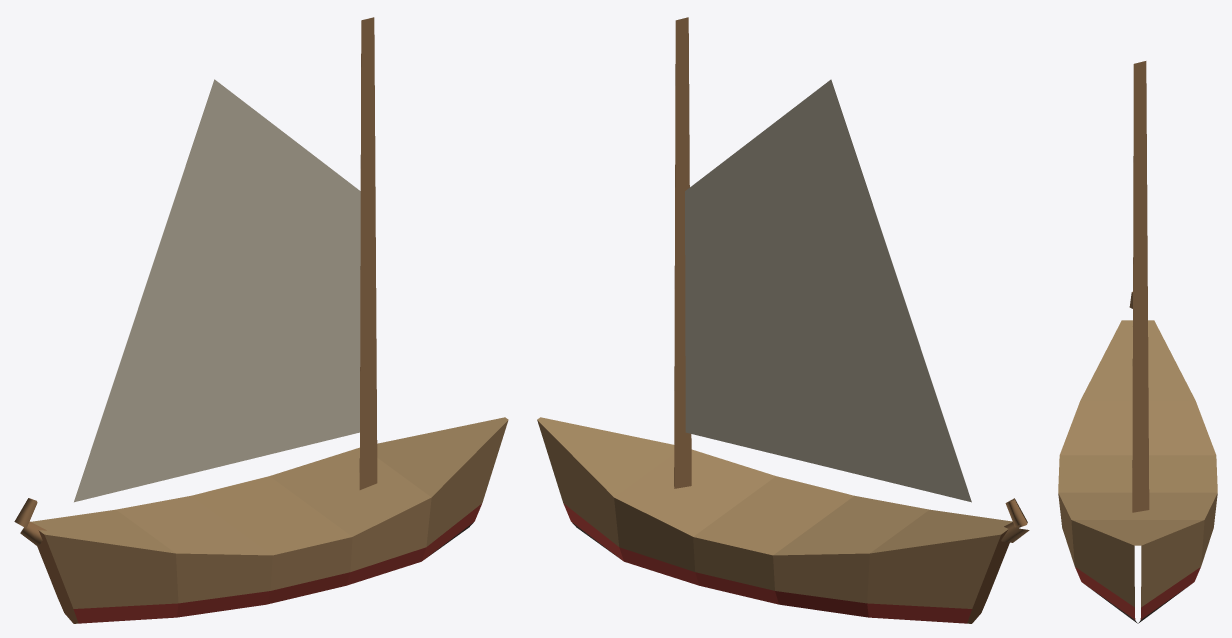
Rendered from hull_other_sprit_skiff_lod.glb.
3 renders of one model, left to right at view 1: azimuth 30°, elevation 25°; view 2: azimuth 150°, elevation 25°; view 3: azimuth 270°, elevation 25°, orthographic. The views are drawn at different scales.
Parts seen in each view (by area): view 1: lod; view 2: lod; view 3: lod.
Part boxes in pixels (x1,y1,x2,y2): lod: (14,17,508,623); lod: (537,17,1029,623); lod: (1058,61,1217,623).
Bounding box in the file's own units: 5.21 × 5.6 × 1.53.
